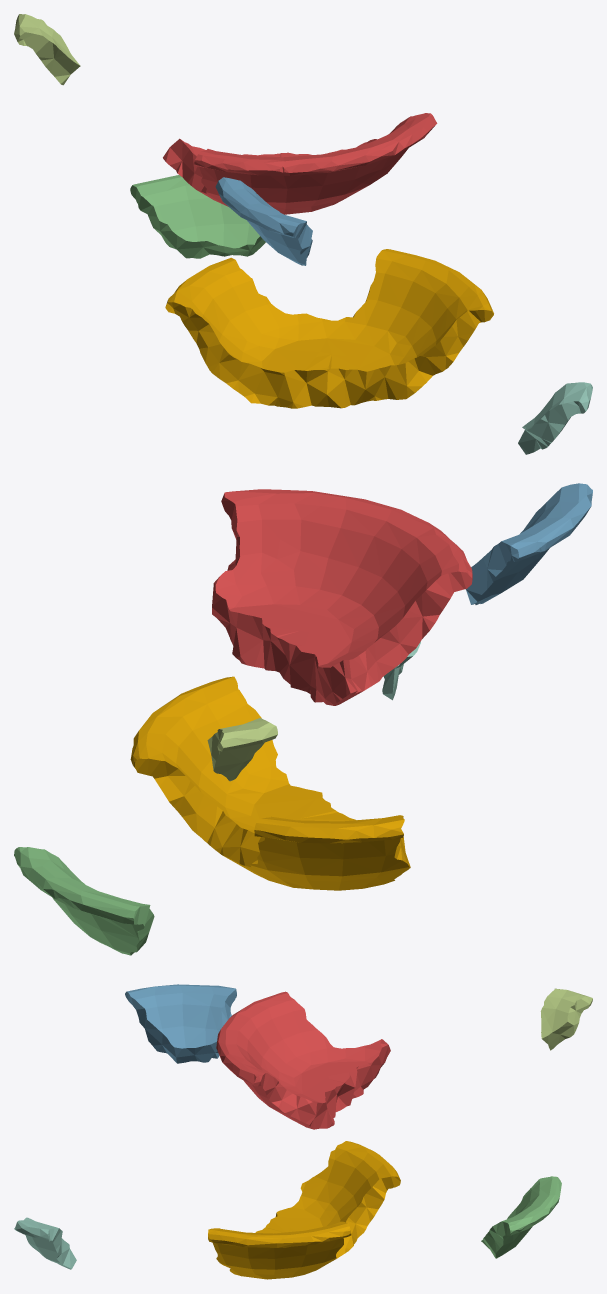
Rendered from fractured_71_6pcs_transformed.glb.
3 renders of one model, top to bottom at view 1: azimuth 30°, elevation 25°; view 2: azimuth 150°, elevation 25°; view 3: azimuth 270°, elevation 25°, orthographic. The views are drawn at different scales.
Parts seen in each view (by area): view 1: piece_0.obj, piece_1.obj, piece_3.obj, piece_2.obj, piece_4.obj, piece_5.obj; view 2: piece_1.obj, piece_0.obj, piece_3.obj, piece_2.obj, piece_5.obj; view 3: piece_1.obj, piece_0.obj, piece_2.obj, piece_3.obj, piece_5.obj, piece_4.obj.
Boxes of the visible parts, left/top/right/bottom form: piece_0.obj: left=165, top=249, right=493, bottom=408; piece_1.obj: left=163, top=113, right=437, bottom=214; piece_3.obj: left=130, top=175, right=265, bottom=258; piece_2.obj: left=215, top=177, right=312, bottom=265; piece_4.obj: left=518, top=382, right=592, bottom=454; piece_5.obj: left=14, top=14, right=80, bottom=85; piece_1.obj: left=212, top=489, right=472, bottom=705; piece_0.obj: left=130, top=676, right=410, bottom=890; piece_3.obj: left=14, top=847, right=154, bottom=955; piece_2.obj: left=466, top=483, right=592, bottom=604; piece_5.obj: left=207, top=718, right=277, bottom=781; piece_1.obj: left=216, top=991, right=390, bottom=1129; piece_0.obj: left=208, top=1141, right=400, bottom=1279; piece_2.obj: left=125, top=984, right=236, bottom=1063; piece_3.obj: left=481, top=1176, right=561, bottom=1258; piece_5.obj: left=540, top=988, right=592, bottom=1050; piece_4.obj: left=14, top=1217, right=76, bottom=1269.
Size of the model in its own units: 0.9996 by 0.9058 by 2.18.
